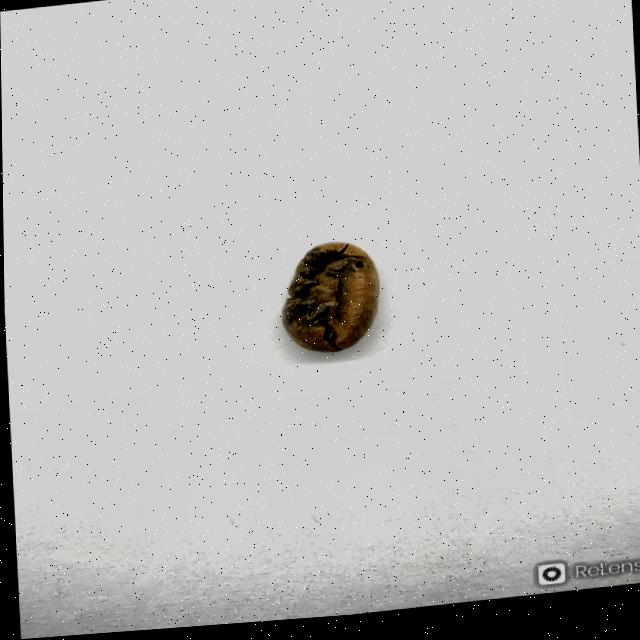Insect damage: (275, 241, 382, 362)
